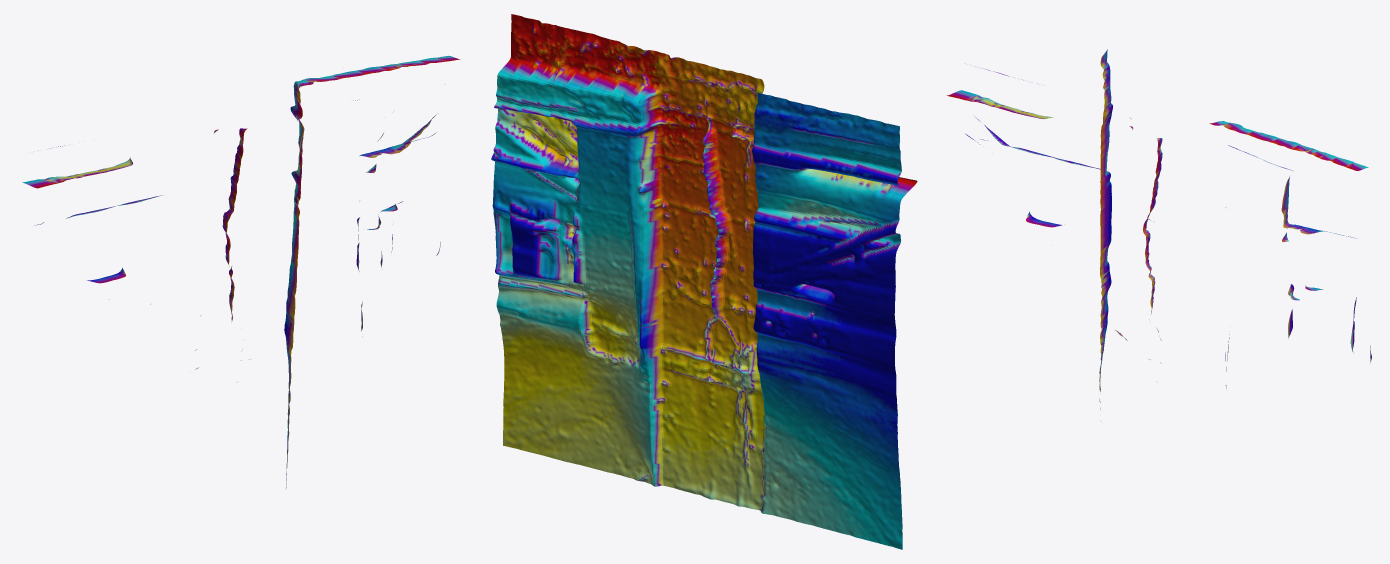
The picture shows the model from 3 angles, left to right: view 1: azimuth 30°, elevation 25°; view 2: azimuth 150°, elevation 25°; view 3: azimuth 330°, elevation 25°; orthographic projection. The views are drawn at different scales.
Visible parts, largest first — view 1: world; view 2: world; view 3: world.
Part boxes in pixels (<box>): world: <box>22,55,460,489</box>; world: <box>491,14,917,549</box>; world: <box>947,49,1371,420</box>.
Size of the model in its own units: 299 by 299 by 30.
